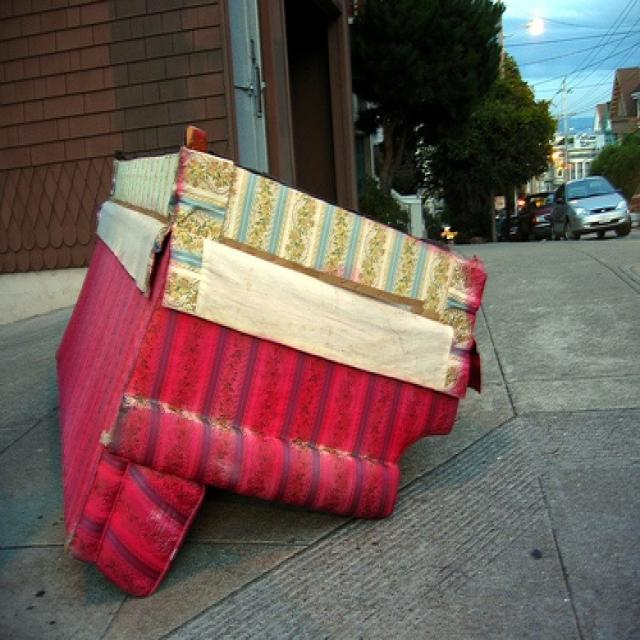car: (552, 174, 634, 244), (516, 193, 555, 242)
sofa: (51, 123, 486, 599)
